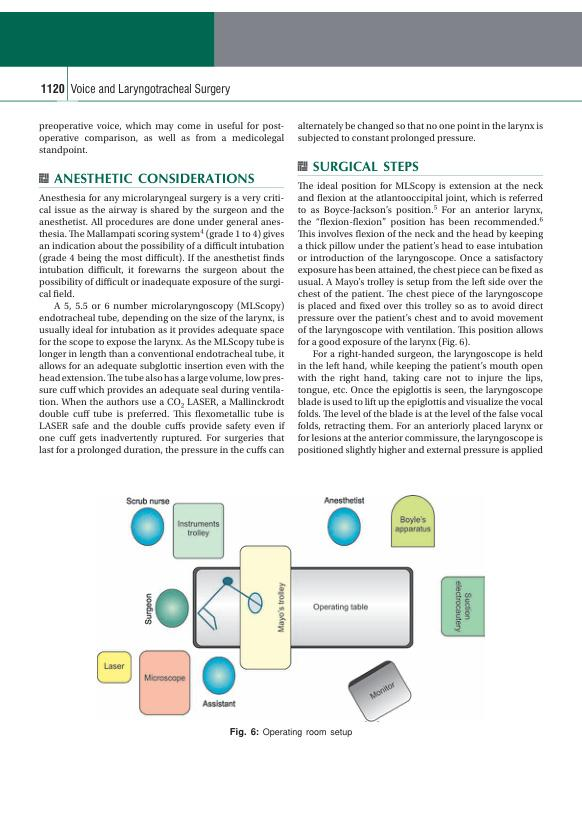caption: (228, 726, 354, 739)
header: (69, 82, 231, 97)
image: (82, 478, 507, 724)
section-heading: (53, 172, 256, 184), (312, 160, 420, 172)
text: (297, 178, 544, 457), (37, 192, 286, 457), (37, 120, 285, 157), (297, 120, 544, 145)
